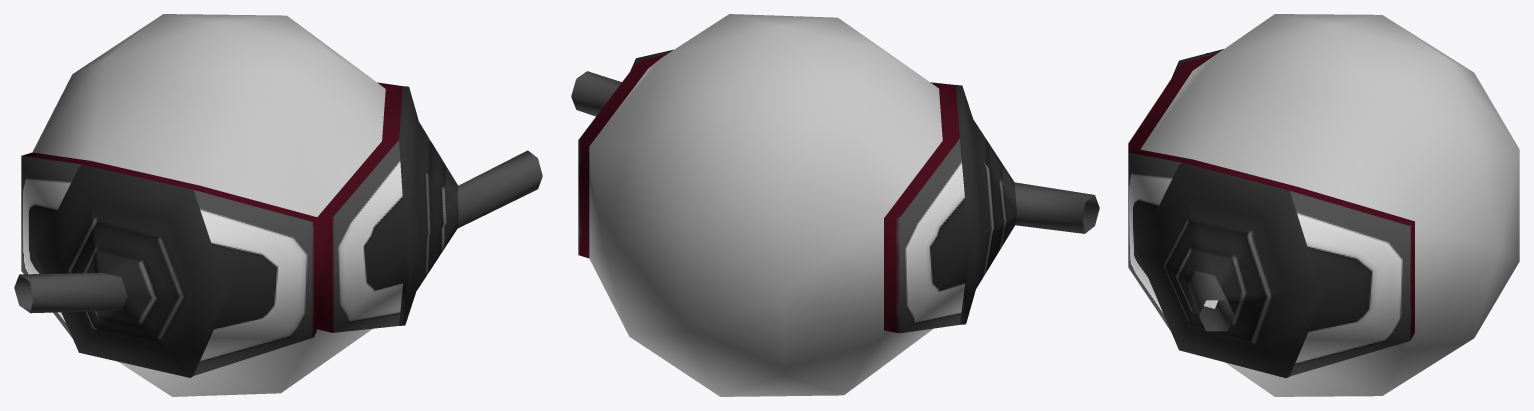
Rendered from SensoresVida.fbx.
The picture shows the model from 3 angles, left to right: view 1: azimuth 30°, elevation 25°; view 2: azimuth 150°, elevation 25°; view 3: azimuth 270°, elevation 25°; orthographic projection.
Visible parts, largest first — view 1: SensorVida; view 2: SensorVida; view 3: SensorVida.
Part boxes in pixels (<box>): SensorVida: <box>14,14,542,396</box>; SensorVida: <box>571,14,1099,396</box>; SensorVida: <box>1128,14,1519,396</box>.
Size of the model in its own units: 1.39 by 0.941 by 0.9233.
1 material, 1 textured.
